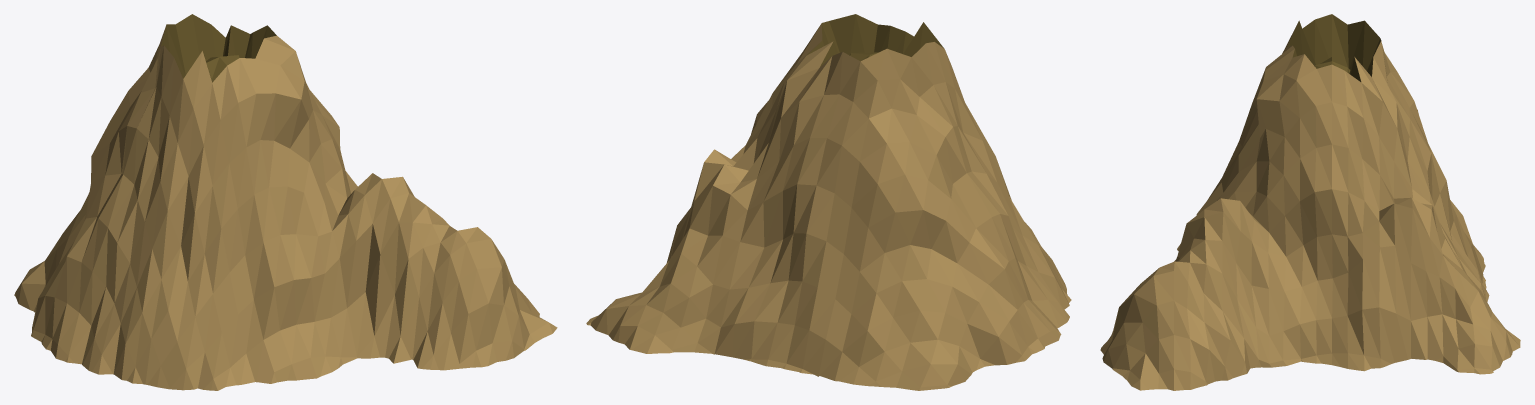
Rendered from Mountain_Dirt_Crater_01.fbx.
3 renders of one model, left to right at view 1: azimuth 30°, elevation 25°; view 2: azimuth 150°, elevation 25°; view 3: azimuth 270°, elevation 25°, orthographic. The views are drawn at different scales.
Parts seen in each view (by area): view 1: Model; view 2: Model; view 3: Model.
Part boxes in pixels (<box>): Model: <box>14,14,557,390</box>; Model: <box>586,14,1071,390</box>; Model: <box>1100,14,1520,390</box>.
Bounding box in the file's own units: 8707 × 5681 × 8553.
